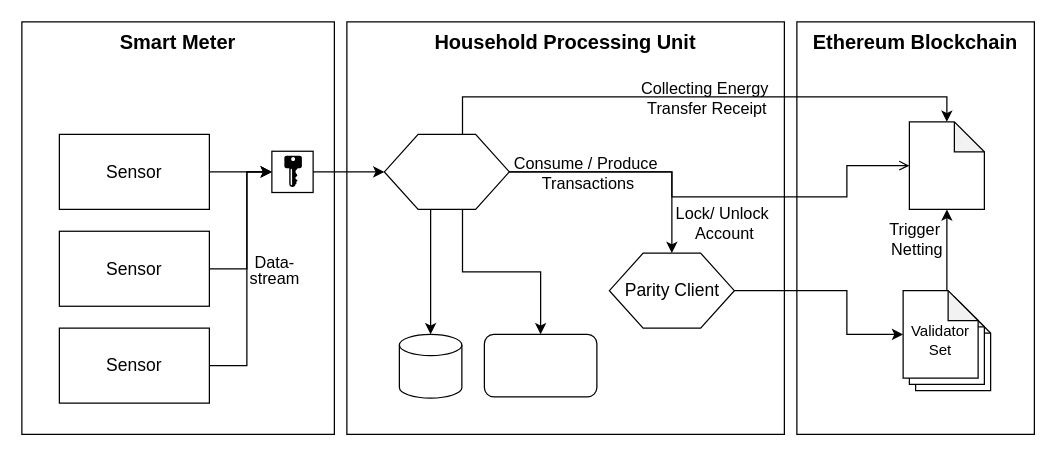
This 1056x456 diagram has some shape labels left out. Each missing label, with the centre of its shape:
"DB" belongs at point (430, 365).
"dUtility" belongs at point (946, 165).
"Household JS-Server" belongs at point (446, 171).
"User Interface" belongs at point (540, 365).
